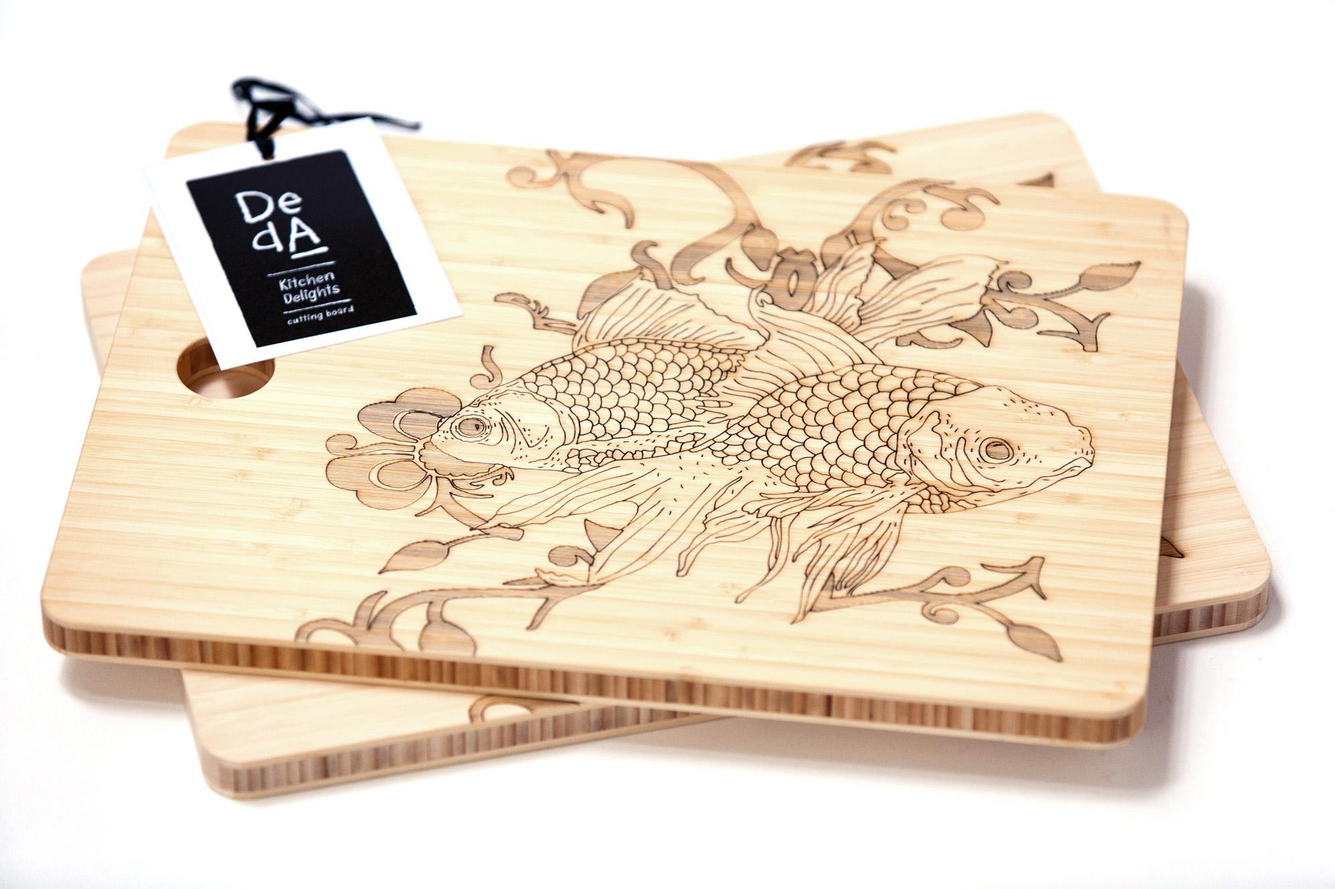gloved_hand: (32, 107, 1193, 759)
